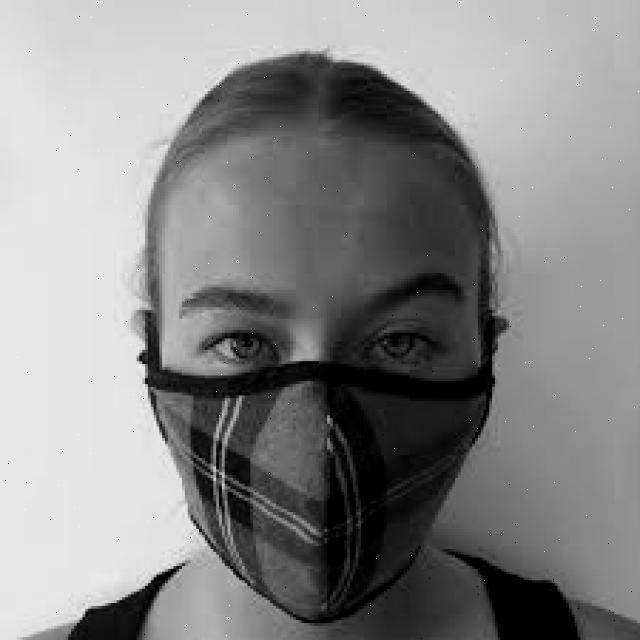fake: (139, 363, 493, 629)
real: (153, 144, 475, 604)
